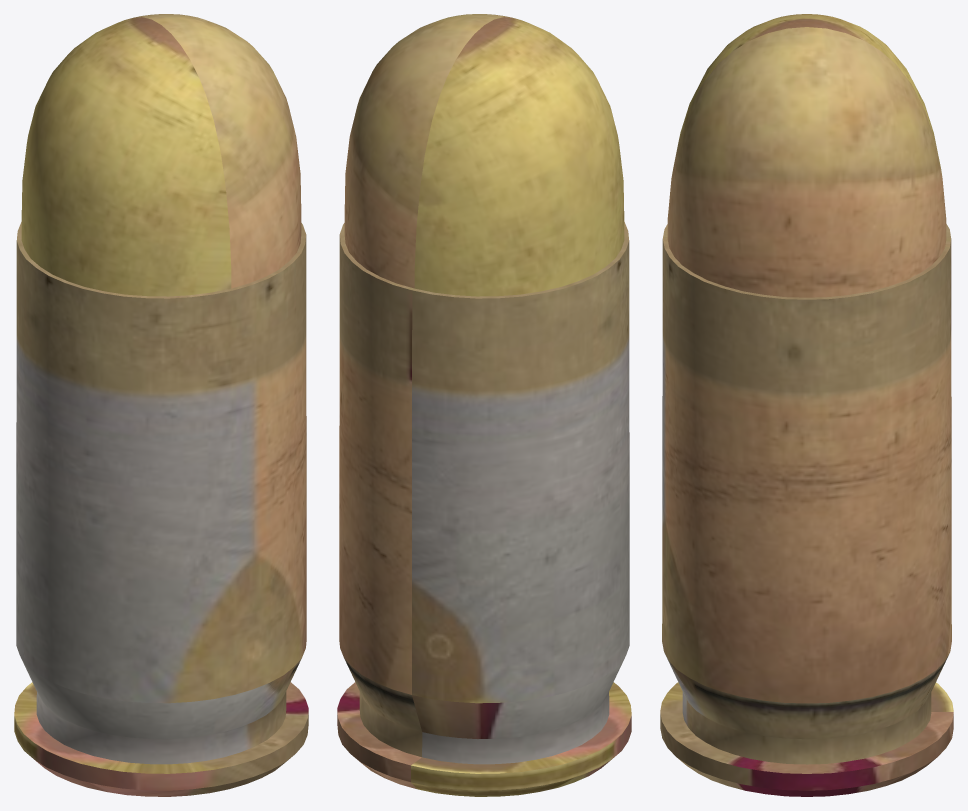
File: gun-r45.glb
3 renders of one model, left to right at view 1: azimuth 30°, elevation 25°; view 2: azimuth 150°, elevation 25°; view 3: azimuth 270°, elevation 25°, orthographic.
Visible parts, largest first — view 1: frame_m, bullet_m; view 2: frame_m, bullet_m; view 3: frame_m, bullet_m.
Boxes of the visible parts, bbox=[...] form: frame_m: bbox=[14, 222, 308, 796]; bullet_m: bbox=[21, 14, 301, 296]; frame_m: bbox=[337, 222, 631, 796]; bullet_m: bbox=[344, 14, 624, 296]; frame_m: bbox=[660, 224, 953, 796]; bullet_m: bbox=[667, 14, 946, 297].
Bounding box in the file's own units: 0.0121 × 0.0324 × 0.0121.
1 material, 1 textured.
